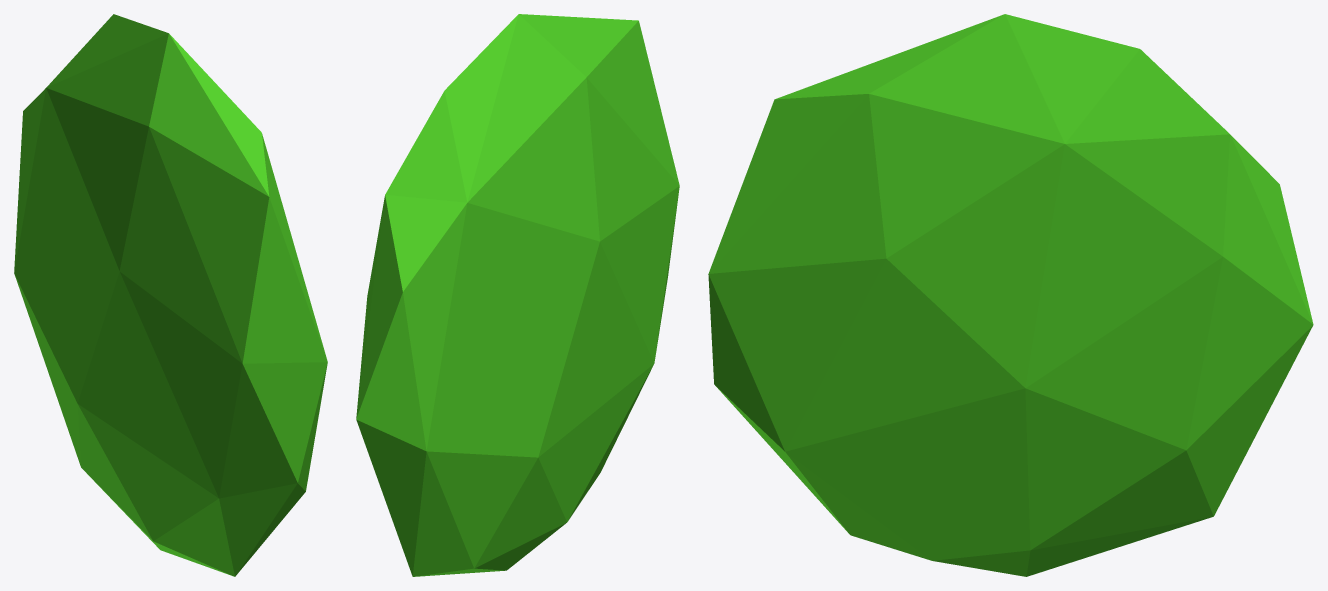
The model's file is target.fbx.
3 renders of one model, left to right at view 1: azimuth 30°, elevation 25°; view 2: azimuth 150°, elevation 25°; view 3: azimuth 270°, elevation 25°, orthographic. The views are drawn at different scales.
Parts seen in each view (by area): view 1: Sphere; view 2: Sphere; view 3: Sphere.
Boxes of the visible parts, x1,y1,x2,y2 form: Sphere: (14,14,327,576); Sphere: (356,14,679,576); Sphere: (708,14,1313,576).
Size of the model in its own units: 51.52 by 204 by 199.
